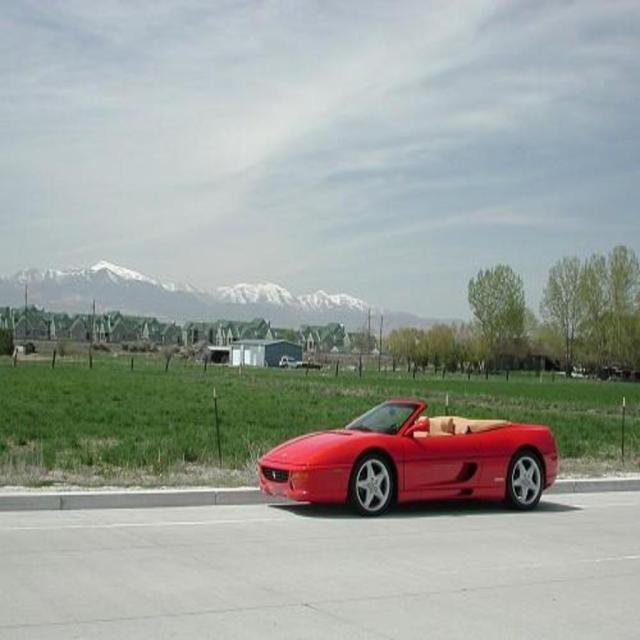car: (253, 395, 562, 521)
